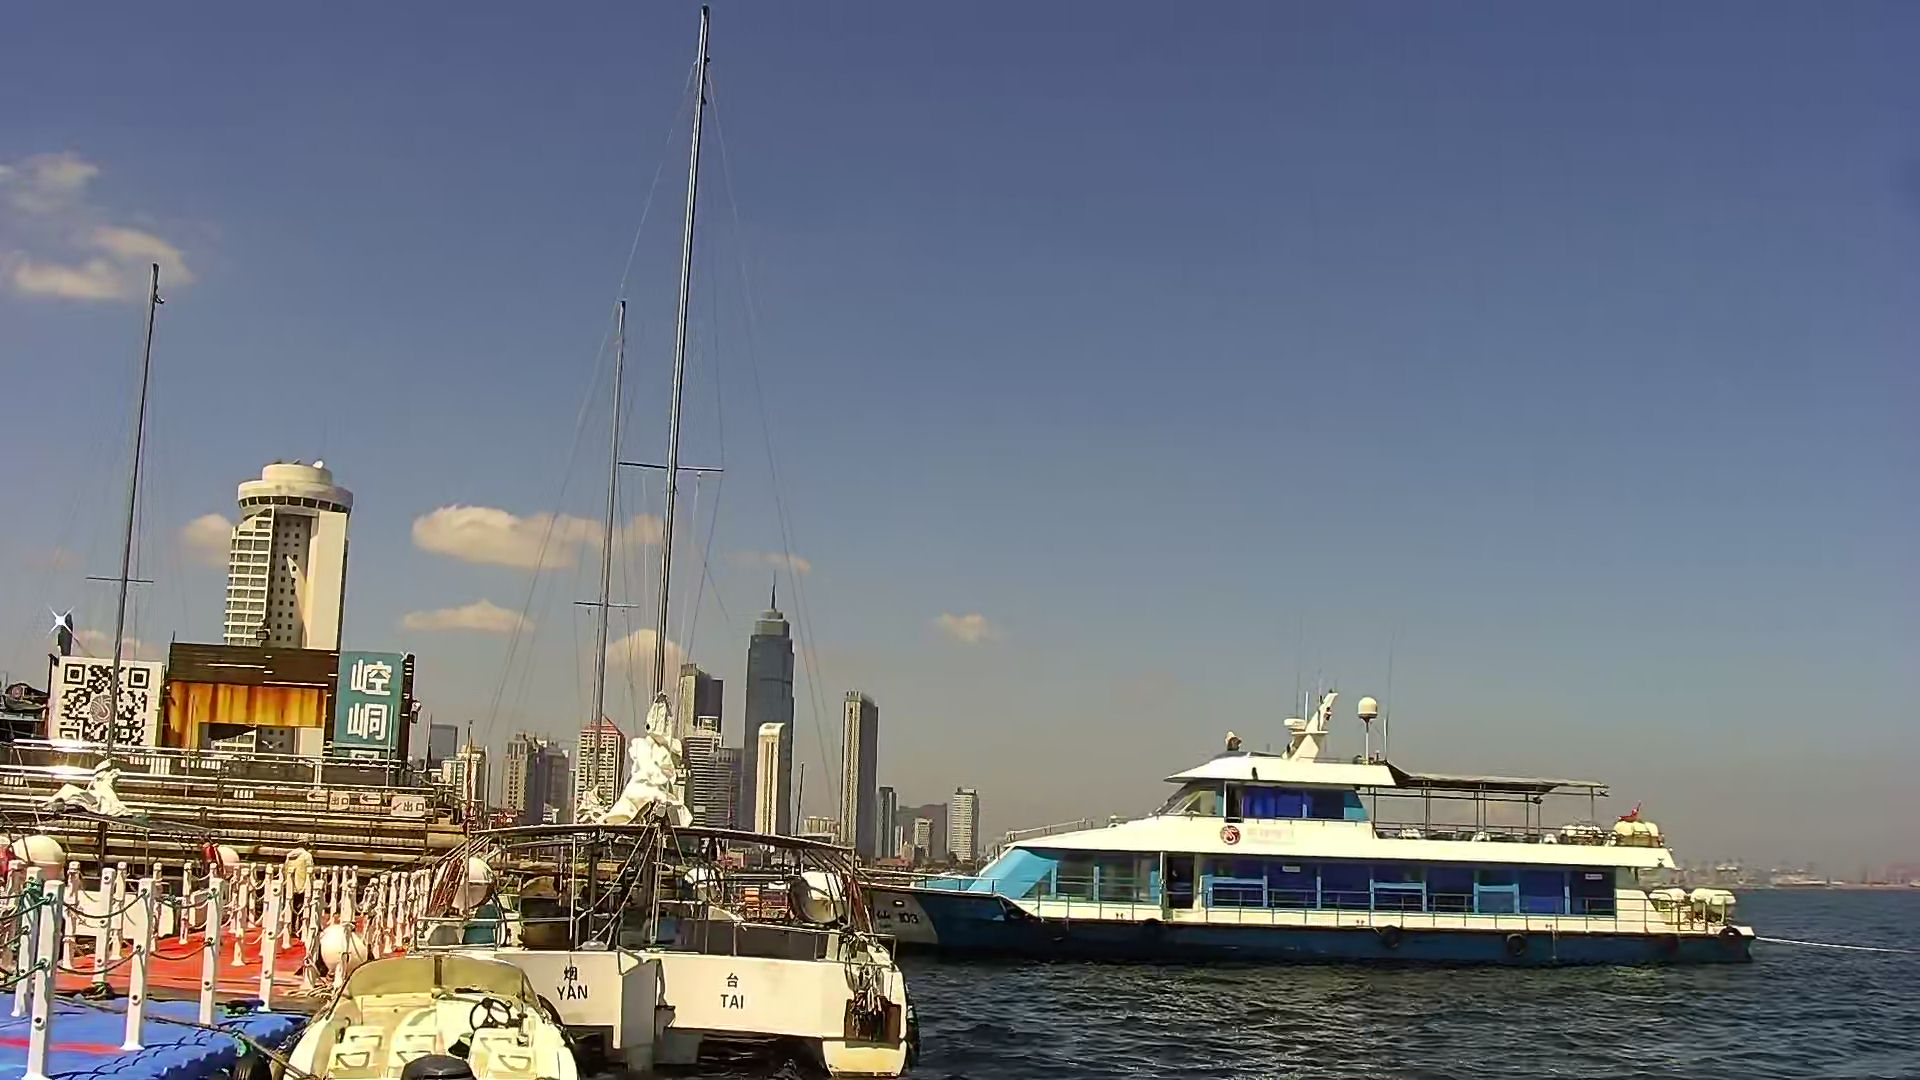boat: (426, 3, 913, 1073), (336, 922, 593, 1080)
harbor: (1, 829, 314, 1072)
ship: (835, 684, 1759, 975)
